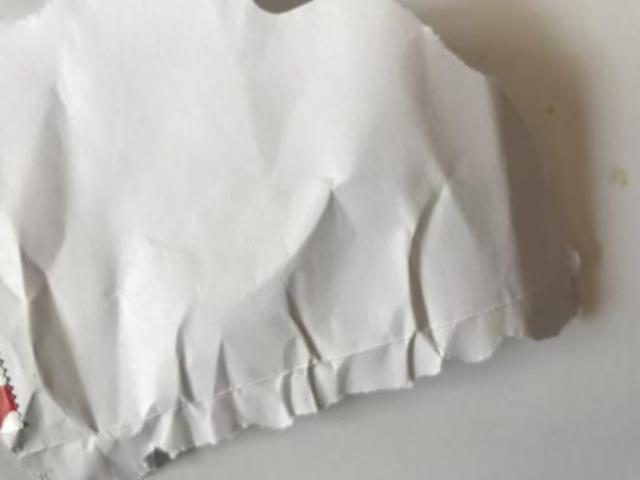cardboard paper: (0, 0, 572, 475)
